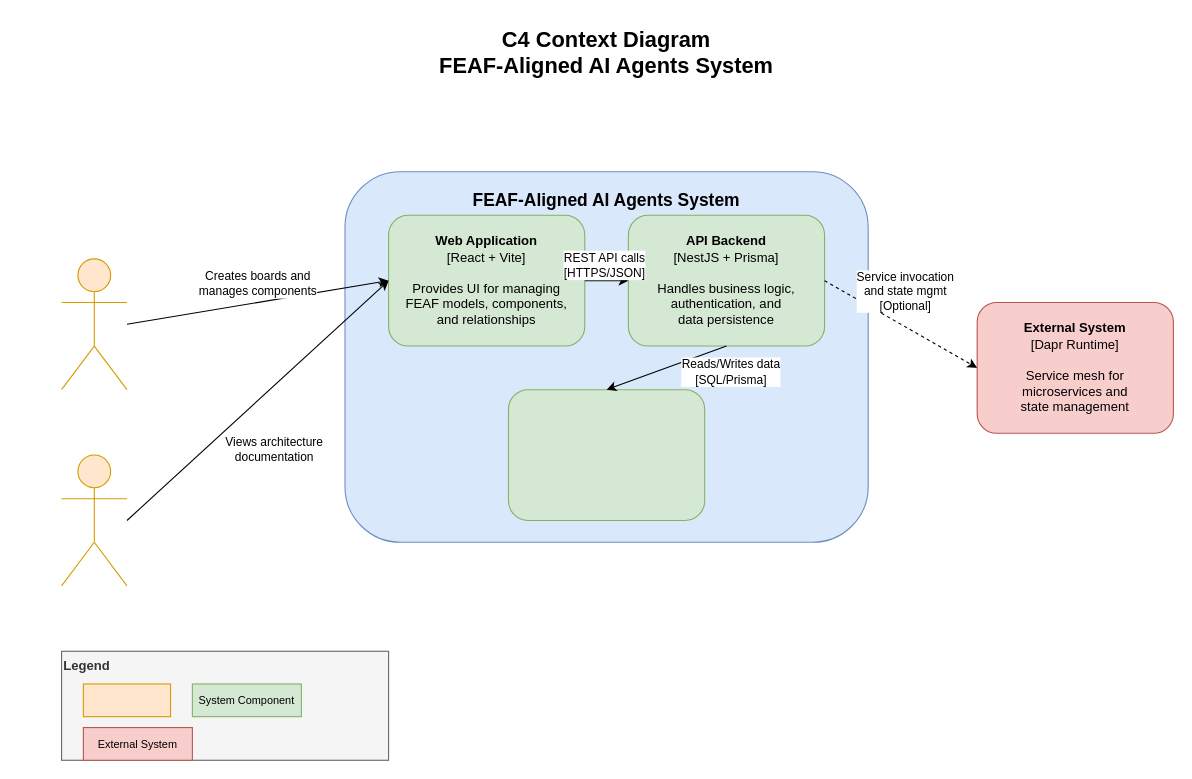
This 1192x779 diagram has some shape labels left out. The centre of each missing label's shape, as x and y in pixels:
"Database [PostgreSQL] Stores boards, components, relationships, and users" belongs at pixel 606 454.
"Enterprise Architect [Person] Creates and manages FEAF architecture models" belongs at pixel 93 324.
"Person" belongs at pixel 126 700.
"Stakeholder [Person] Views architecture documentation and relationships" belongs at pixel 93 520.
